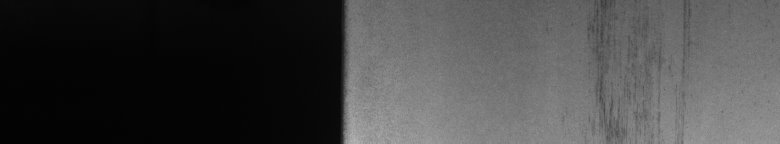ka: (587, 4, 691, 134)
